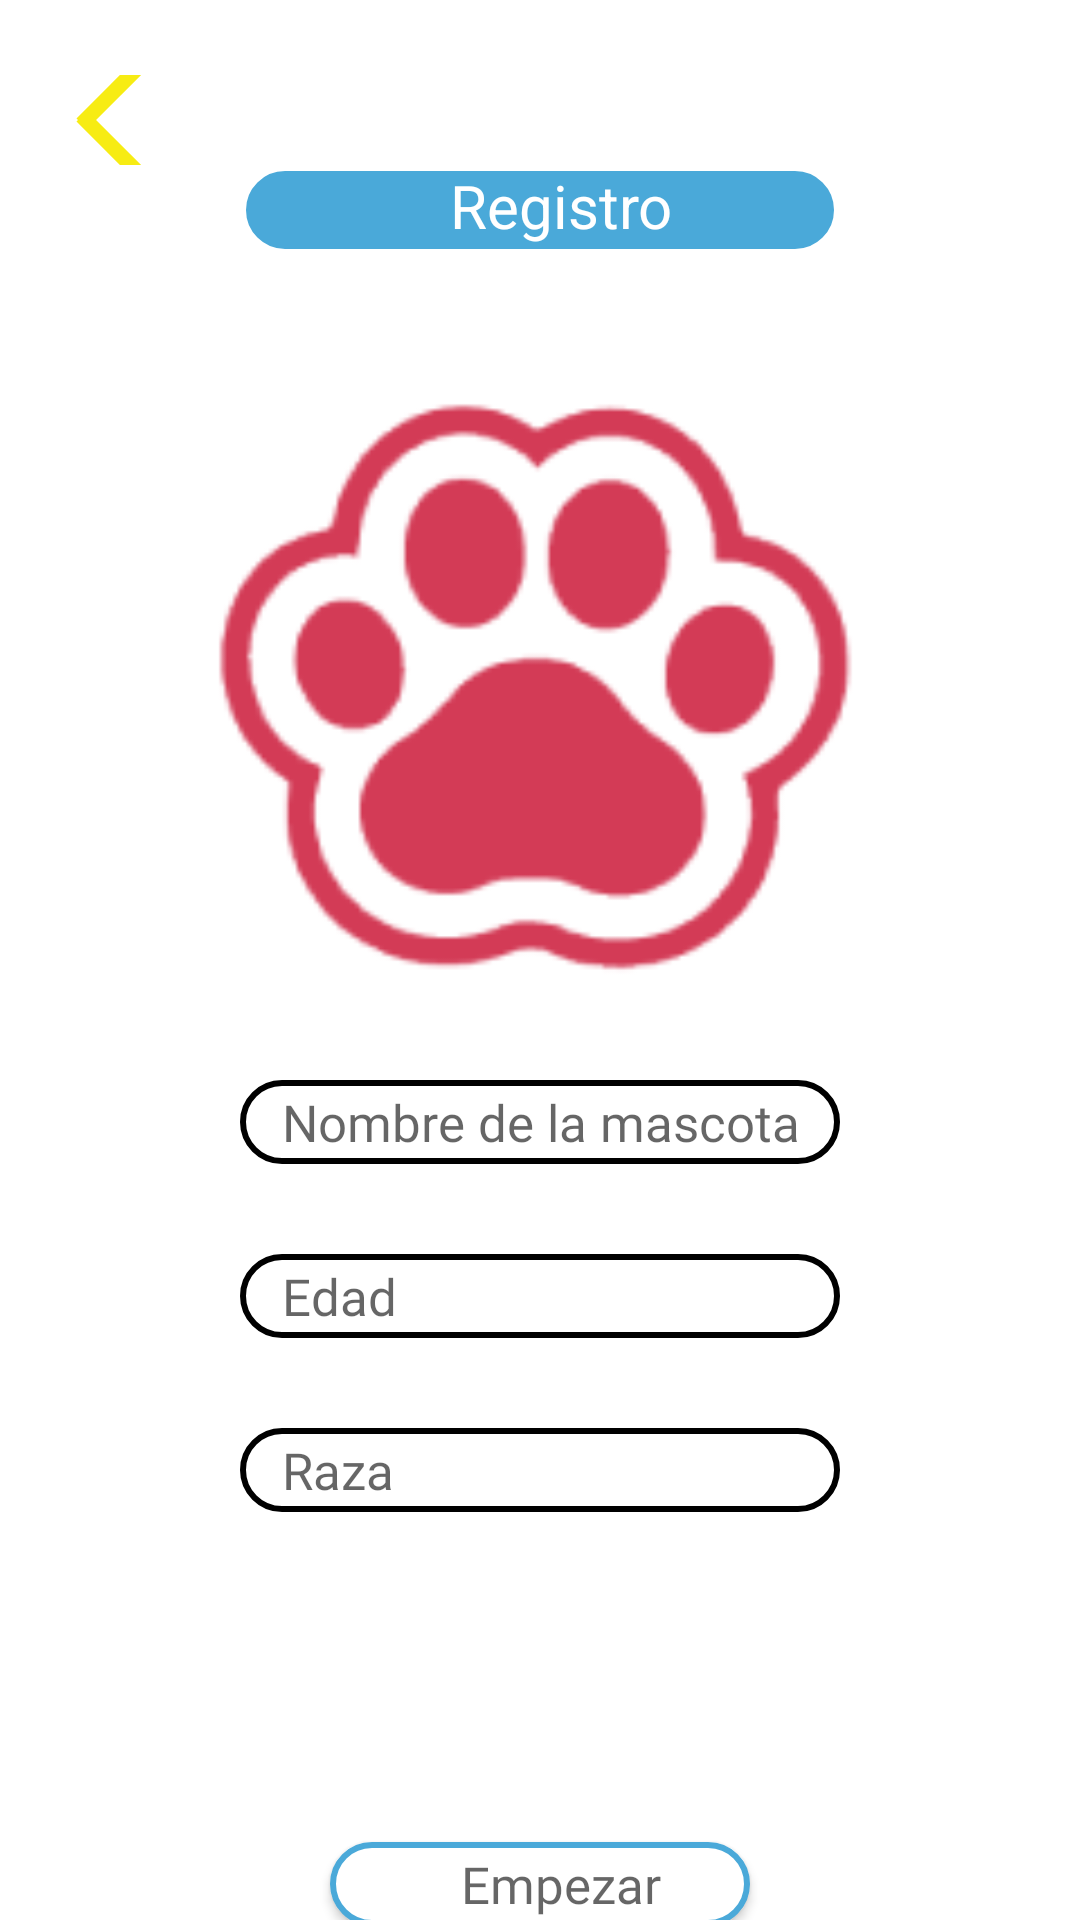

Named icons in this screenshot (1080w x 1920h) and their bounding boxes, bbox(x1, y1, x2, y2):
flecha: bbox(76, 75, 141, 165)
